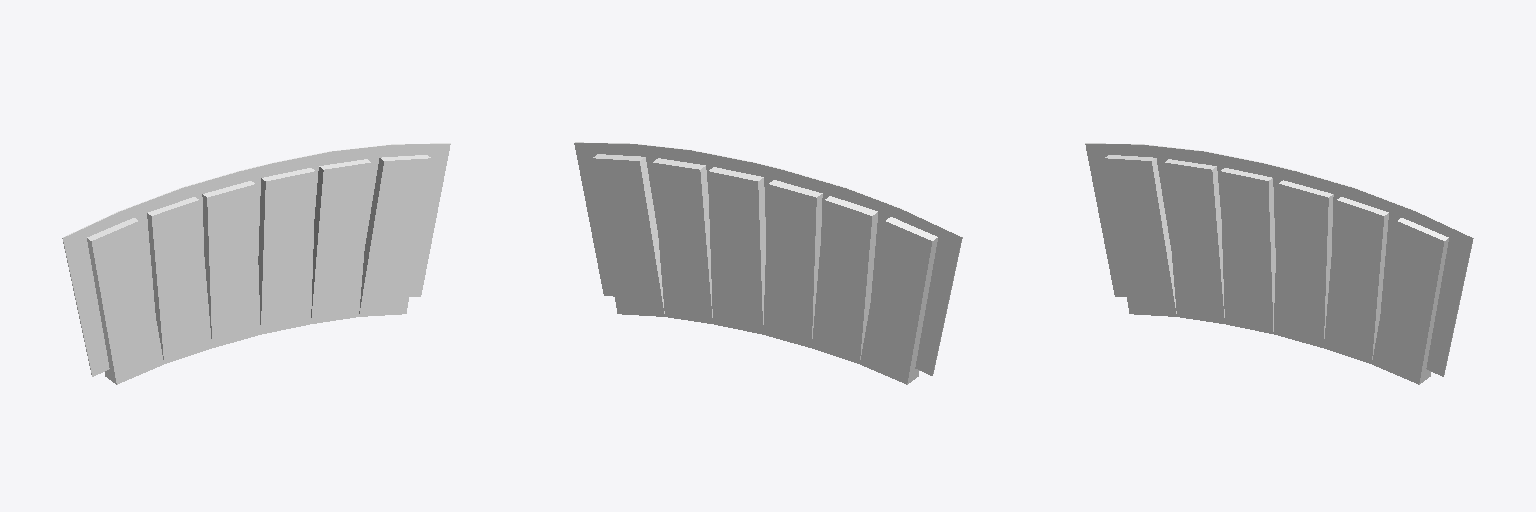
Rendered from lime_mortar_orange_clay_brick_facade_segmental_arch_3_middle_bottom.obj.
The picture shows the model from 3 angles: view 1: azimuth 30°, elevation 25°; view 2: azimuth 150°, elevation 25°; view 3: azimuth 330°, elevation 25°; orthographic projection.
Parts seen in each view (by area): view 1: brick.026, brick.021, brick.024, brick.023, brick.022, brick.025, cube.134, cube.137, cube.133, cube.136, cube.132, cube.135 (+1 smaller); view 2: brick.026, brick.021, brick.024, brick.022, brick.023, brick.025, cube.134, cube.137, cube.133, cube.136, cube.132, cube.135 (+1 smaller); view 3: brick.026, brick.024, brick.023, brick.021, brick.025, brick.022, cube.137, cube.134, cube.136, cube.133, cube.135, cube.132 (+1 smaller).
Boxes of the visible parts, box(x1,y1,x2,y2) form: brick.026: box(258, 168, 315, 334); brick.021: box(87, 218, 163, 384); brick.024: box(359, 155, 431, 316); brick.023: box(202, 181, 260, 347); brick.022: box(147, 197, 211, 363); brick.025: box(311, 159, 371, 323); cube.134: box(62, 211, 122, 376); cube.137: box(391, 143, 450, 296); cube.133: box(121, 188, 181, 314); cube.136: box(332, 144, 391, 250); cube.132: box(180, 171, 239, 245); cube.135: box(273, 151, 332, 206); brick.026: box(708, 167, 765, 334); brick.021: box(860, 217, 937, 384); brick.024: box(592, 154, 664, 316); brick.022: box(812, 196, 877, 363); brick.023: box(763, 180, 822, 347); brick.025: box(652, 158, 712, 323); cube.134: box(902, 210, 962, 375); cube.137: box(574, 142, 634, 296); cube.133: box(844, 187, 903, 297); cube.136: box(633, 144, 691, 229); cube.132: box(784, 170, 844, 233); cube.135: box(692, 150, 751, 193); brick.026: box(1274, 180, 1333, 347); brick.024: box(1372, 218, 1448, 384); brick.023: box(1220, 168, 1275, 333); brick.021: box(1104, 155, 1176, 316); brick.025: box(1324, 197, 1388, 363); brick.022: box(1164, 159, 1224, 323); cube.137: box(1413, 211, 1473, 376); cube.134: box(1085, 143, 1144, 296); cube.136: box(1354, 188, 1414, 314); cube.133: box(1144, 144, 1203, 250); cube.135: box(1296, 171, 1355, 245); cube.132: box(1203, 151, 1262, 206).
Bounding box in the file's own units: 1.26 × 0.554 × 0.0633.